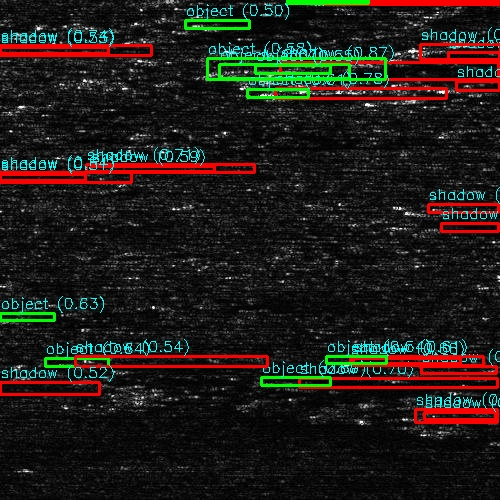rock: (0, 38, 40, 57), (234, 88, 297, 97), (294, 0, 367, 4), (39, 360, 92, 365), (353, 358, 384, 363)
shadow: (0, 38, 345, 57), (66, 360, 406, 365), (266, 88, 443, 97), (331, 0, 500, 4), (0, 173, 58, 182), (369, 358, 459, 363), (0, 475, 29, 482)
